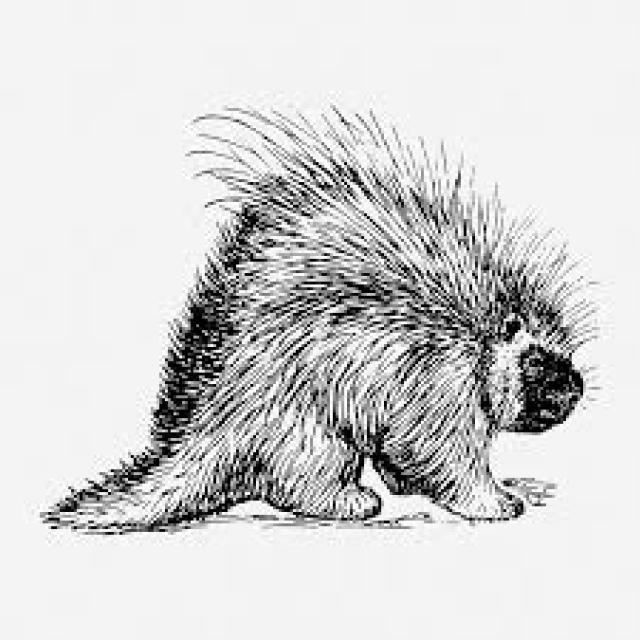Porcupine: (40, 129, 587, 532)
